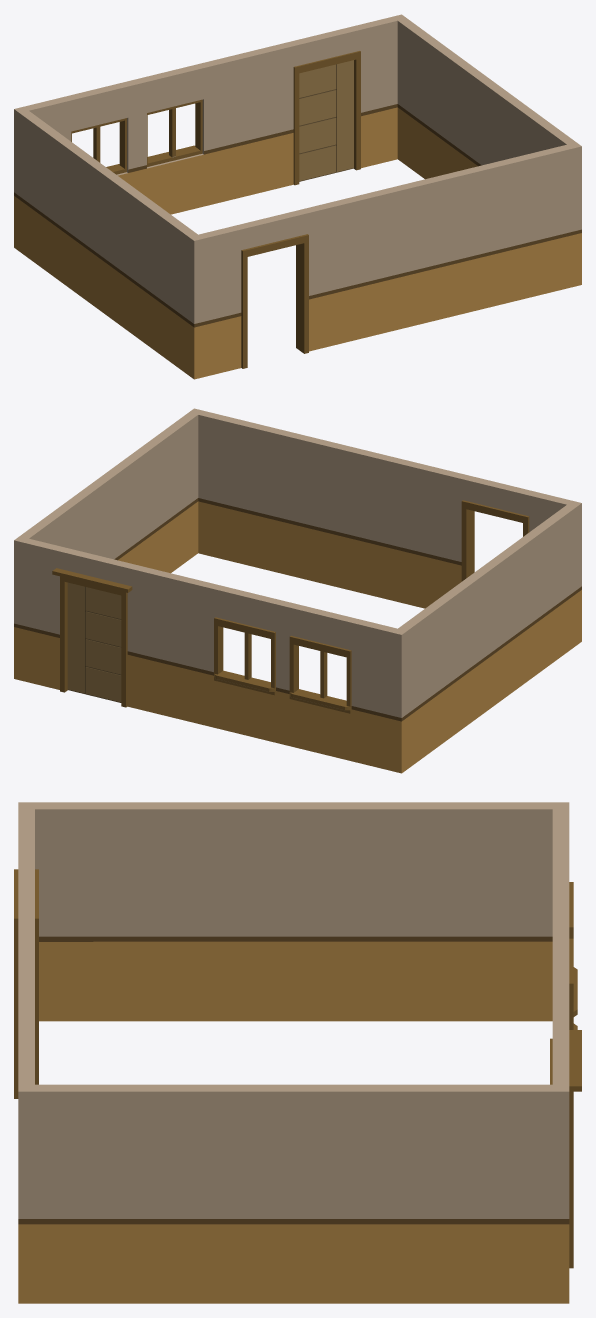
The model's file is kitchen.fbx.
The picture shows the model from 3 angles, top to bottom: view 1: azimuth 30°, elevation 25°; view 2: azimuth 150°, elevation 25°; view 3: azimuth 270°, elevation 25°; orthographic projection. The views are drawn at different scales.
Visible parts, largest first — view 1: Cube.012, Cube.002, Cube.003, Cube.015, Cube.004, Cube.007, Cube.014, Cube.008, Cube.013, Cube.006, Cube.010, Cube.011 (+6 smaller); view 2: Cube.004, Cube.015, Cube.002, Cube.012, Cube.003, Cube.009, Cube.001, Cube.014, Cube.006, Cube.010, Cube.008, Cube.011 (+6 smaller); view 3: Cube.013, Cube.018, Cube.010, Cube.011, Cube.016, Cube.017, Cube.008, Cube.006, Cube.009, Cube.007, Cube.005, Cube.004 (+6 smaller).
Boxes of the visible parts, x1=… form: Cube.012: x1=458, y1=153, x2=539, y2=313; Cube.002: x1=383, y1=171, x2=463, y2=331; Cube.003: x1=307, y1=189, x2=387, y2=350; Cube.015: x1=208, y1=43, x2=288, y2=204; Cube.004: x1=284, y1=25, x2=364, y2=185; Cube.007: x1=169, y1=220, x2=236, y2=379; Cube.014: x1=132, y1=62, x2=213, y2=214; Cube.008: x1=359, y1=14, x2=425, y2=172; Cube.013: x1=38, y1=125, x2=91, y2=297; Cube.006: x1=534, y1=128, x2=581, y2=295; Cube.010: x1=126, y1=188, x2=178, y2=361; Cube.011: x1=82, y1=156, x2=134, y2=329; Cube.004: x1=52, y1=547, x2=137, y2=707; Cube.015: x1=132, y1=565, x2=212, y2=725; Cube.002: x1=307, y1=437, x2=387, y2=598; Cube.012: x1=231, y1=419, x2=311, y2=579; Cube.003: x1=382, y1=456, x2=463, y2=608; Cube.009: x1=359, y1=614, x2=426, y2=773; Cube.001: x1=283, y1=602, x2=364, y2=762; Cube.014: x1=208, y1=583, x2=288, y2=744; Cube.006: x1=170, y1=408, x2=236, y2=566; Cube.010: x1=504, y1=519, x2=557, y2=691; Cube.008: x1=14, y1=522, x2=61, y2=689; Cube.011: x1=461, y1=550, x2=513, y2=723; Cube.013: x1=360, y1=802, x2=494, y2=1021; Cube.018: x1=360, y1=1084, x2=494, y2=1303; Cube.010: x1=93, y1=802, x2=226, y2=1021; Cube.011: x1=227, y1=802, x2=360, y2=1021; Cube.016: x1=93, y1=1084, x2=226, y2=1303; Cube.017: x1=227, y1=1084, x2=360, y2=1303; Cube.008: x1=494, y1=1060, x2=569, y2=1303; Cube.006: x1=18, y1=1060, x2=93, y2=1303; Cube.009: x1=494, y1=802, x2=569, y2=1021; Cube.007: x1=18, y1=802, x2=93, y2=1021; Cube.005: x1=14, y1=834, x2=38, y2=1098; Cube.004: x1=550, y1=1003, x2=581, y2=1268.
Size of the model in its own units: 10.25 by 3.5 by 8.5.
6 materials, 6 textured.
